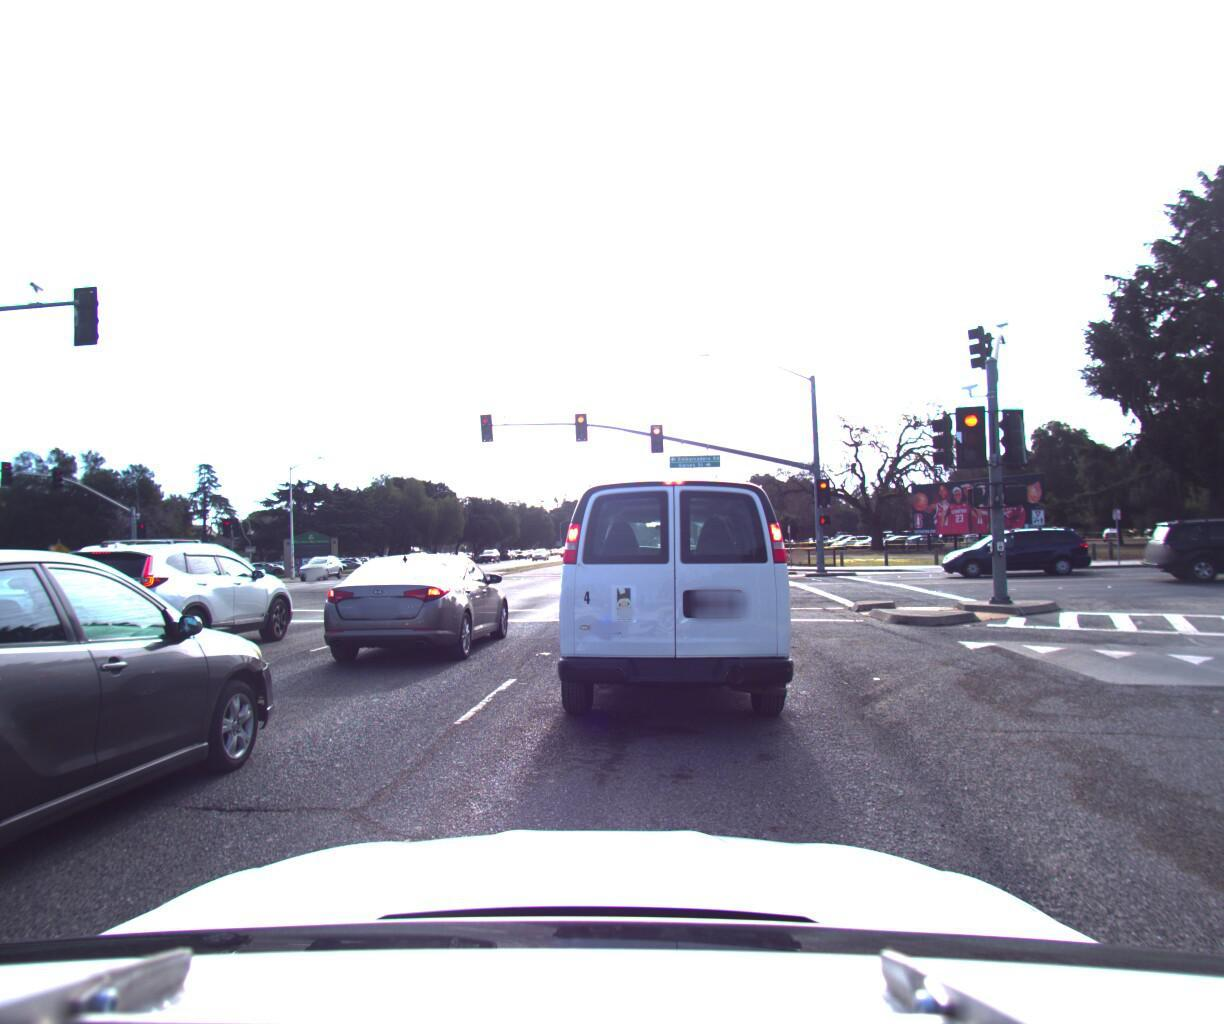car: (0, 535, 308, 1024), (541, 472, 802, 763), (16, 534, 310, 668), (312, 538, 521, 679), (0, 546, 165, 671), (926, 516, 1087, 573), (1133, 504, 1224, 574), (0, 539, 18, 818), (1157, 496, 1224, 566), (0, 547, 50, 634), (296, 552, 348, 582), (374, 542, 420, 567)
